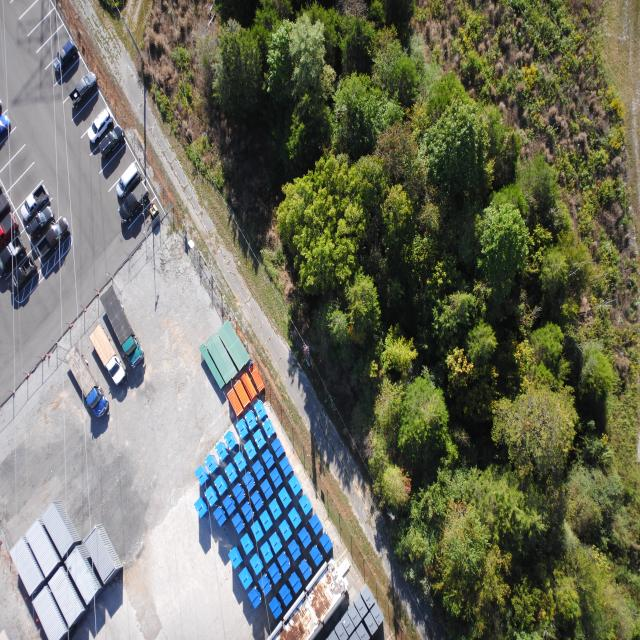Area of Interest: (243, 19, 625, 638)
